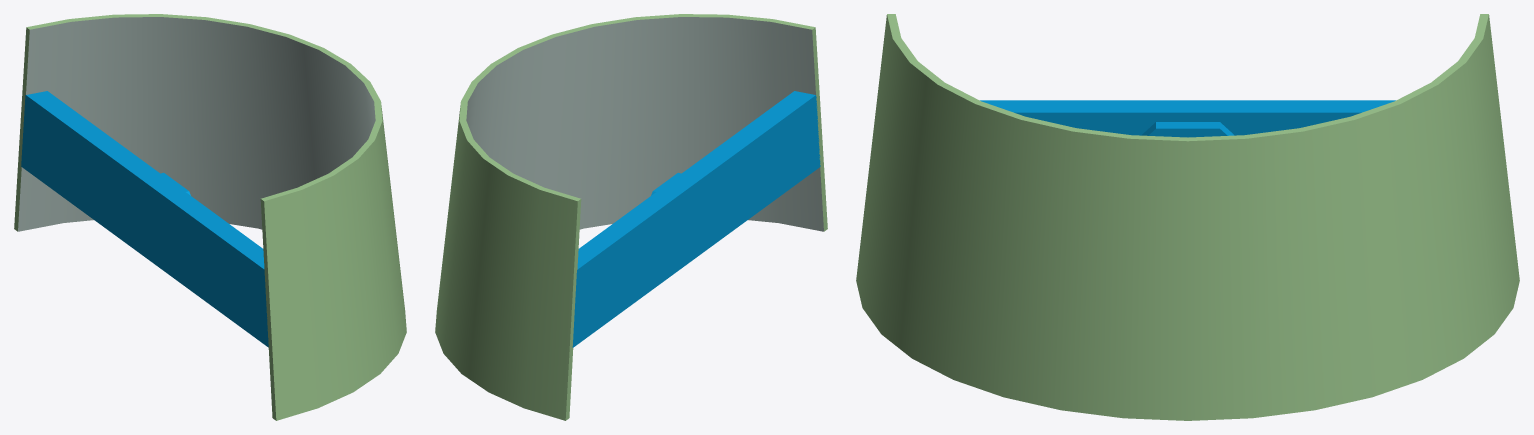
Rendered from lampCylWall.fbx.
3 views of the same model, side by side, from view 1: azimuth 30°, elevation 25°; view 2: azimuth 150°, elevation 25°; view 3: azimuth 270°, elevation 25° (orthographic). The views are drawn at different scales.
Parts seen in each view (by area): view 1: lampCylWall; view 2: lampCylWall; view 3: lampCylWall.
Boxes of the visible parts, x1,y1,x2,y2 form: lampCylWall: [14, 14, 406, 420]; lampCylWall: [435, 14, 827, 420]; lampCylWall: [856, 14, 1519, 420].
Bounding box in the file's own units: 18.02 × 15.98 × 36.05.
